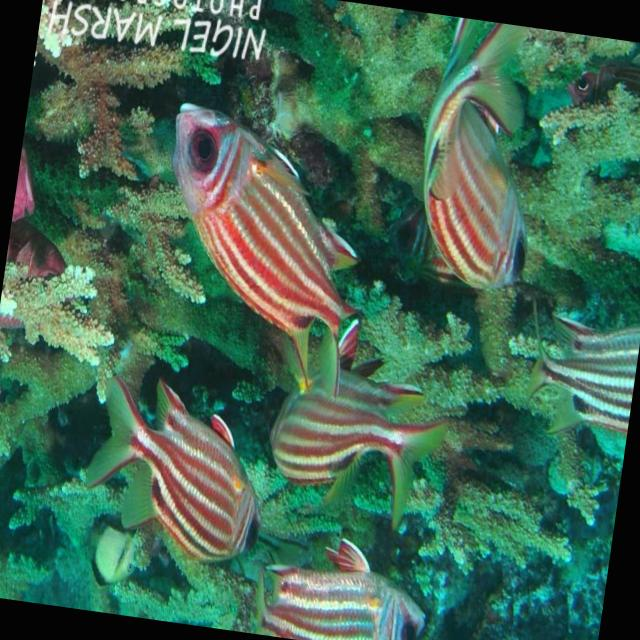Asker Baligi: (127, 80, 396, 416), (53, 353, 292, 634), (394, 13, 574, 321), (223, 517, 452, 640)
